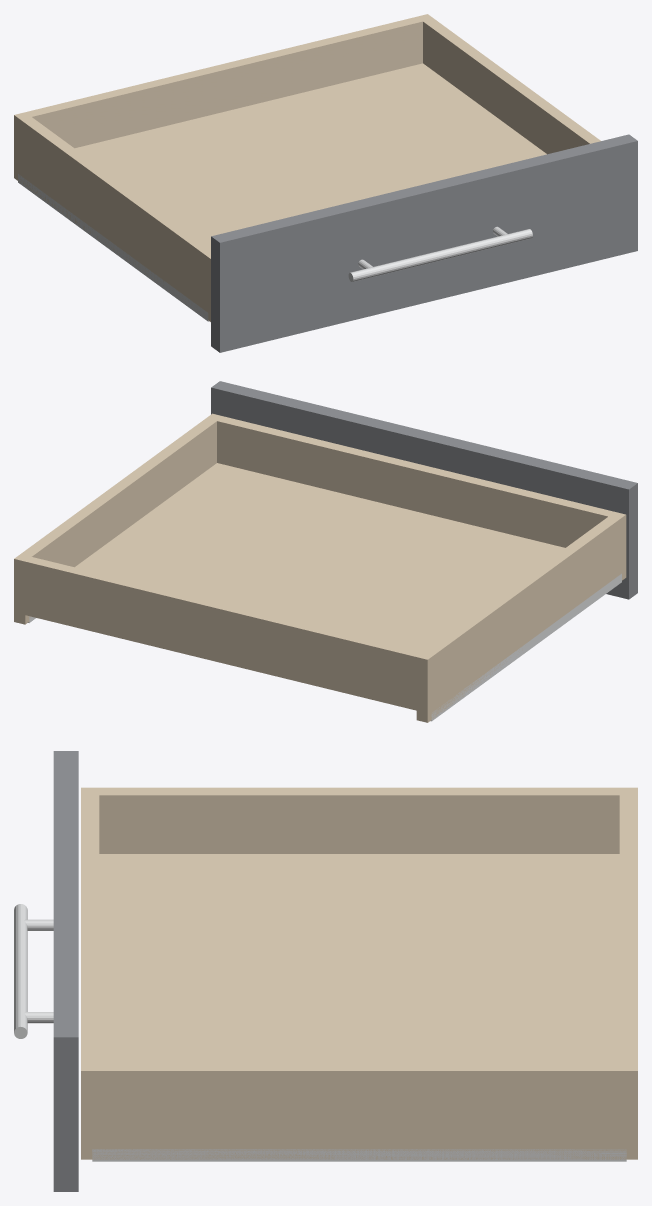
File: skuff_K1_3.glb
The picture shows the model from 3 angles, top to bottom: view 1: azimuth 30°, elevation 25°; view 2: azimuth 150°, elevation 25°; view 3: azimuth 270°, elevation 25°; orthographic projection. The views are drawn at different scales.
Size of the model in its own units: 596 by 150 by 549.
